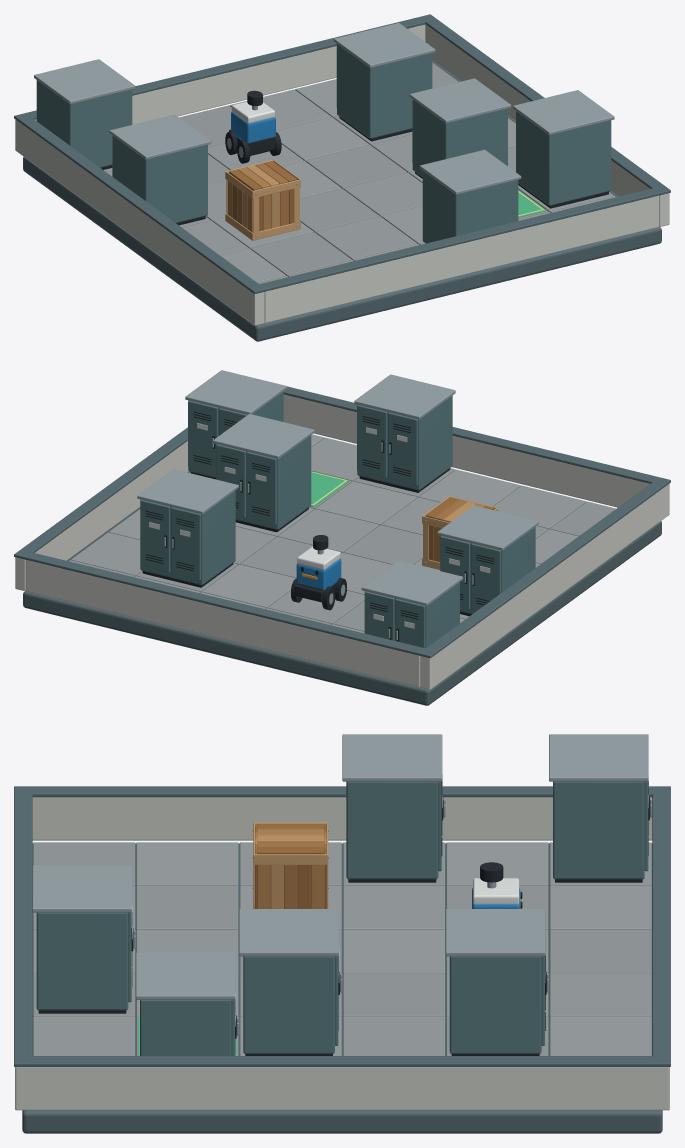
3 renders of one model, top to bottom at view 1: azimuth 30°, elevation 25°; view 2: azimuth 150°, elevation 25°; view 3: azimuth 270°, elevation 25°, orthographic. The views are drawn at different scales.
Parts seen in each view (by area): view 1: Cutaway wall.002, Floor foundation, obstacle_5, obstacle_4, obstacle_0, Cutaway wall, obstacle_1, obstacle_2, obstacle_3, Cutaway wall.003, crate, Wall coping.002 (+22 smaller); view 2: Cutaway wall.003, Floor foundation, obstacle_4, obstacle_2, obstacle_3, Cutaway wall.002, Cutaway wall, obstacle_0, obstacle_1, obstacle_5, Cutaway wall.001, Wall coping.003 (+23 smaller); view 3: Cutaway wall.001, Floor foundation, Cutaway wall, obstacle_0, obstacle_2, obstacle_1, obstacle_4, obstacle_3, obstacle_5, Wall coping.001, crate, Wall coping (+23 smaller).
Boxes of the visible parts, x1,y1,x2,y2 form: Cutaway wall.002: [264, 195, 659, 323]; Floor foundation: [23, 61, 661, 341]; obstacle_5: [513, 90, 614, 208]; obstacle_4: [334, 23, 435, 141]; obstacle_0: [109, 114, 211, 225]; Cutaway wall: [15, 119, 264, 325]; obstacle_1: [34, 59, 135, 169]; obstacle_2: [419, 149, 521, 243]; obstacle_3: [409, 78, 511, 178]; Cutaway wall.003: [35, 24, 425, 124]; crate: [225, 160, 300, 240]; Wall coping.002: [259, 188, 660, 291]; Cutaway wall.003: [25, 560, 420, 687]; Floor foundation: [23, 437, 661, 705]; obstacle_4: [137, 469, 238, 587]; obstacle_2: [354, 374, 455, 492]; obstacle_3: [213, 414, 314, 532]; Cutaway wall.002: [283, 394, 649, 507]; Cutaway wall: [420, 483, 669, 689]; obstacle_0: [437, 505, 538, 616]; obstacle_1: [361, 561, 463, 648]; obstacle_5: [185, 370, 286, 479]; Cutaway wall.001: [15, 441, 188, 590]; Wall coping.003: [24, 552, 425, 655]; Cutaway wall.001: [15, 1067, 669, 1110]; Floor foundation: [22, 843, 662, 1133]; Cutaway wall: [32, 797, 652, 840]; obstacle_0: [342, 734, 445, 882]; obstacle_2: [32, 865, 135, 1013]; obstacle_1: [549, 734, 652, 882]; obstacle_4: [445, 909, 548, 1055]; obstacle_3: [239, 909, 342, 1055]; obstacle_5: [136, 952, 239, 1055]; Wall coping.001: [14, 1056, 670, 1066]; crate: [252, 822, 328, 908]; Wall coping: [14, 786, 670, 797].
Size of the model in its own units: 6.36 by 1.44 by 6.36.
